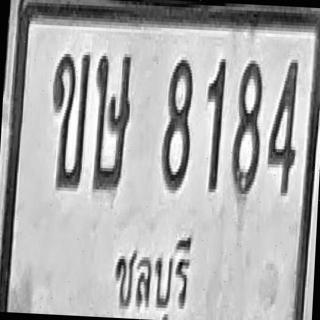A02: (48, 50, 90, 189)
A39: (90, 51, 133, 192)
N01: (202, 55, 226, 193)
N04: (266, 57, 300, 195)
N08: (230, 57, 264, 198), (160, 56, 194, 191)
P13: (109, 224, 198, 320)
